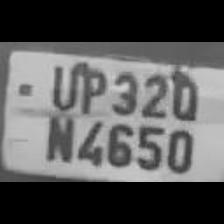0: (162, 123, 196, 173)
2: (136, 67, 168, 119)
3: (106, 65, 138, 115)
4: (74, 112, 104, 166)
5: (134, 119, 164, 171)
6: (103, 120, 131, 168)
N: (40, 109, 74, 163)
P: (76, 62, 108, 114)
Q: (166, 67, 202, 121)
U: (43, 58, 78, 112)
